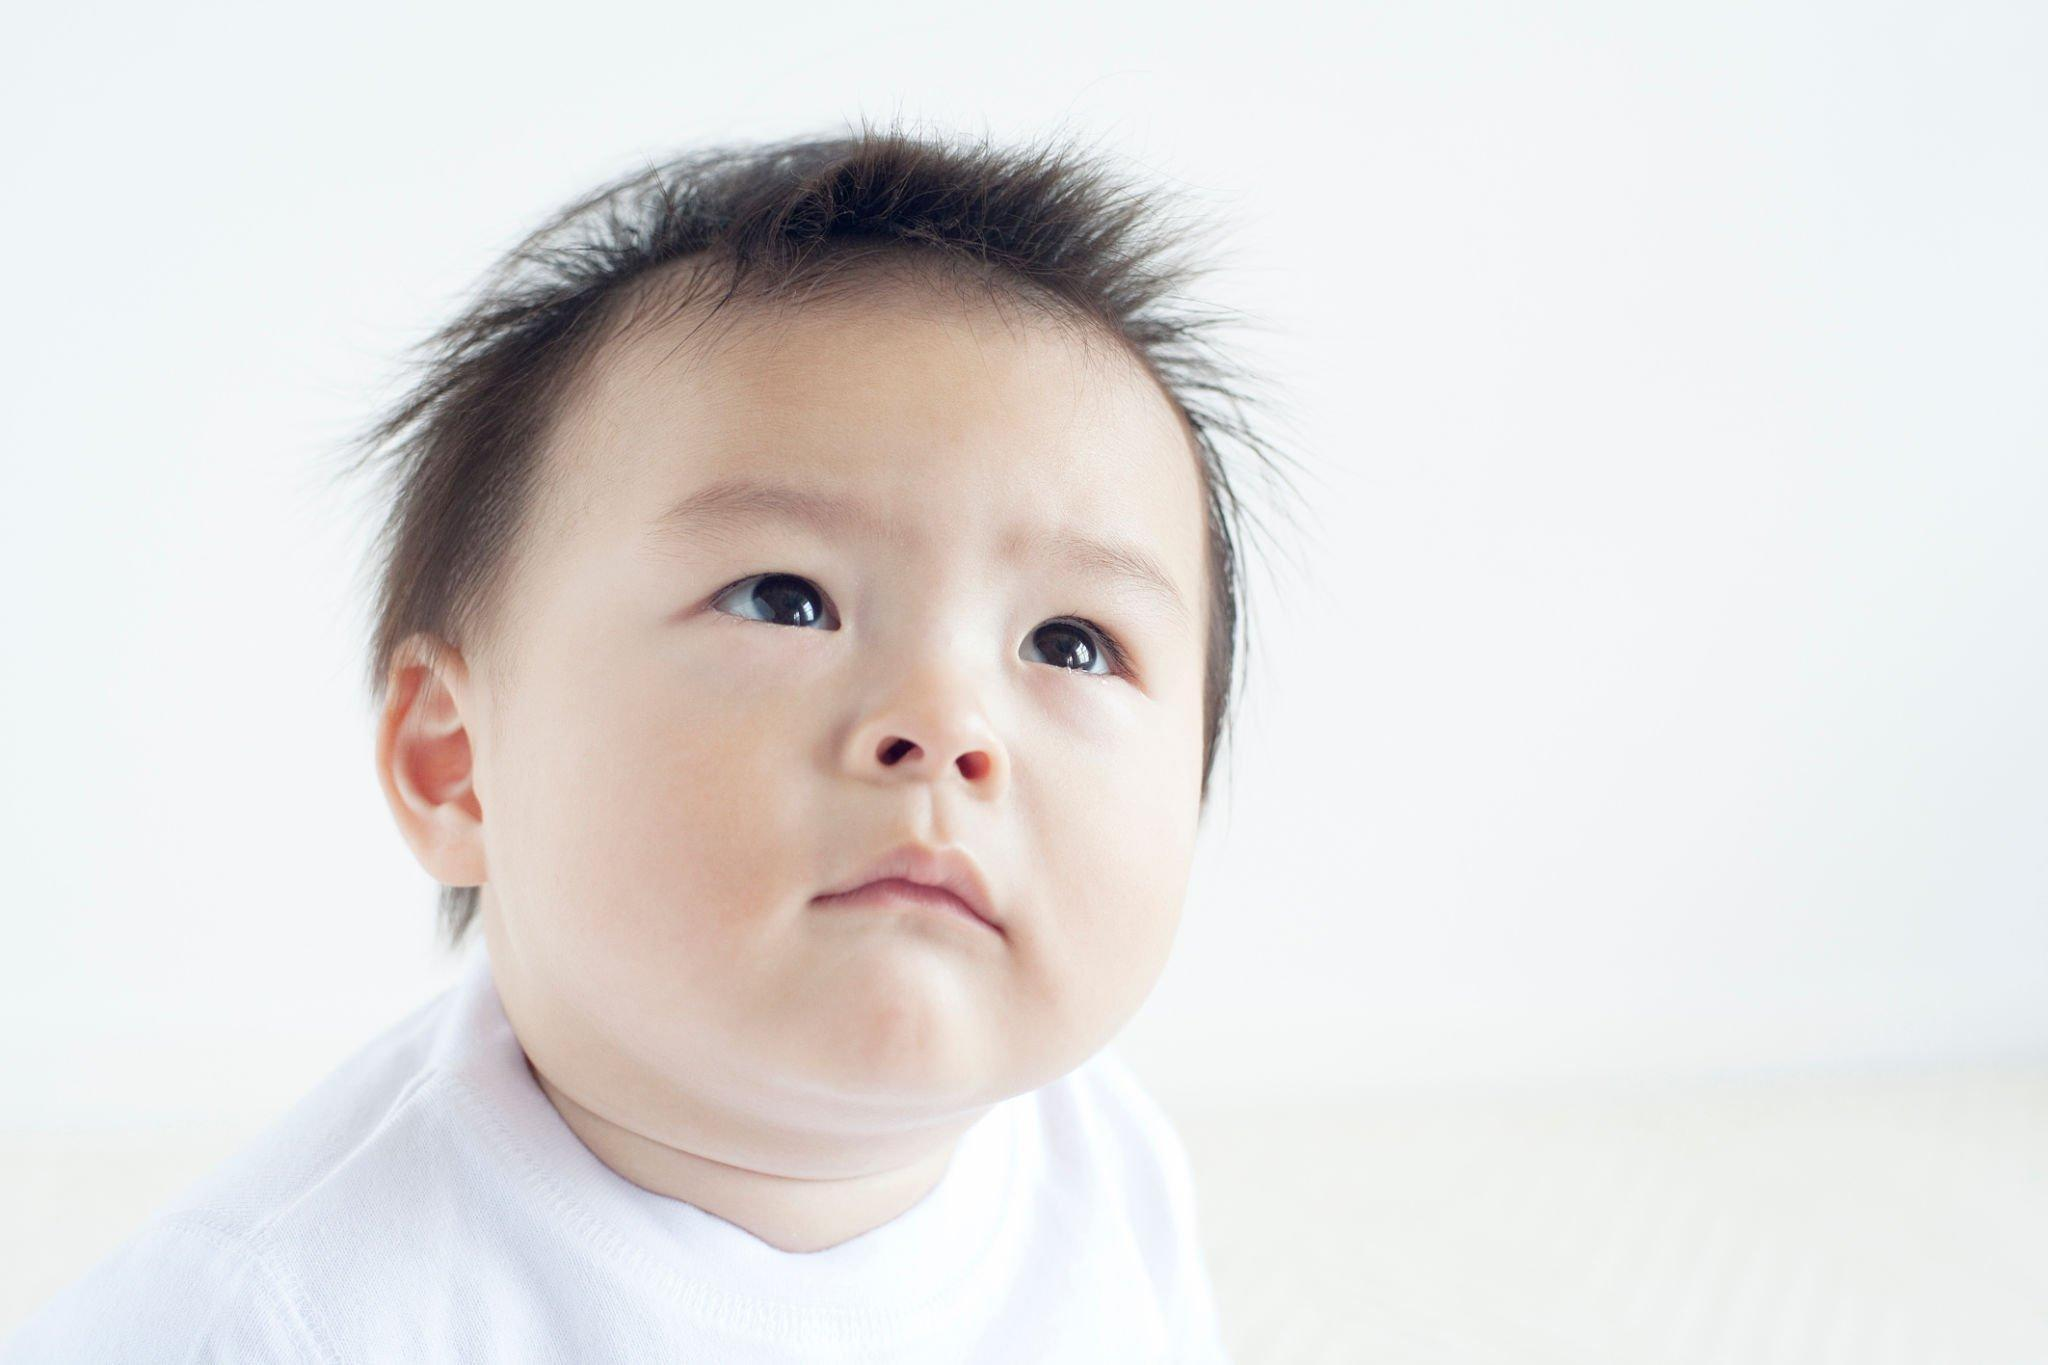Healthy: (492, 247, 1259, 1173)
